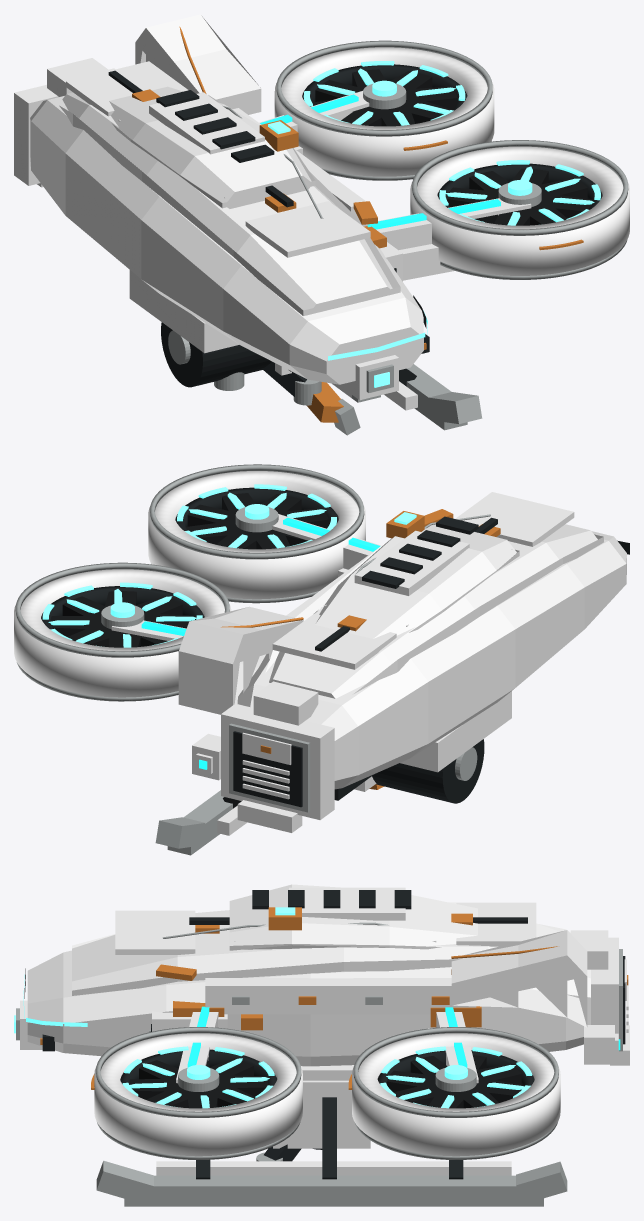
Rendered from morrowgear-family-a-salvage-v3.glb.
3 views of the same model, one above another, from view 1: azimuth 30°, elevation 25°; view 2: azimuth 150°, elevation 25°; view 3: azimuth 270°, elevation 25° (orthographic). The views are drawn at different scales.
Parts seen in each view (by area): view 1: F01_Fuselage, F02_UpperArmor, SAL_F_Duct.R, SAL_R_Duct.R, SAL_ServiceSpine, SAL_RearStabilizer.R, F02_TopPanel_0, SAL_R_UpperLip.R, SAL_F_UpperLip.R, SAL_WinchDrum, SAL_VentralBay, F02_TopPanel_3 (+23 smaller); view 2: F01_Fuselage, SAL_F_Duct.R, SAL_R_Duct.R, F02_UpperArmor, SAL_ServiceSpine, SAL_RearStabilizer.R, V01_RearHousing, SAL_F_UpperLip.R, F02_TopPanel_0, F02_TopPanel_3, SAL_R_UpperLip.R, SAL_WinchDrum (+25 smaller); view 3: F01_Fuselage, SAL_R_Duct.R, SAL_F_Duct.R, SAL_Skid.R, F02_UpperArmor, SAL_RearStabilizer.R, SAL_ServiceSpine, SAL_SideArmor.R, SAL_SkidInnerRail.R, F02_TopPanel_0, SAL_WinchHousing.R, SAL_F_UpperLip.R (+33 smaller).
Part boxes in pixels (bbox=[...]): F01_Fuselage: bbox=[30, 96, 423, 384]; F02_UpperArmor: bbox=[59, 92, 400, 315]; SAL_F_Duct.R: bbox=[410, 146, 629, 275]; SAL_R_Duct.R: bbox=[274, 47, 494, 176]; SAL_ServiceSpine: bbox=[109, 86, 315, 208]; SAL_RearStabilizer.R: bbox=[135, 14, 261, 114]; F02_TopPanel_0: bbox=[245, 201, 370, 257]; SAL_R_UpperLip.R: bbox=[276, 40, 492, 136]; SAL_F_UpperLip.R: bbox=[412, 140, 628, 235]; SAL_WinchDrum: bbox=[161, 322, 271, 387]; SAL_VentralBay: bbox=[129, 270, 239, 353]; F02_TopPanel_3: bbox=[66, 61, 188, 116]; F01_Fuselage: bbox=[237, 531, 626, 789]; SAL_F_Duct.R: bbox=[148, 471, 365, 599]; SAL_R_Duct.R: bbox=[14, 569, 231, 697]; F02_UpperArmor: bbox=[265, 524, 603, 698]; SAL_ServiceSpine: bbox=[315, 524, 519, 638]; SAL_RearStabilizer.R: bbox=[178, 606, 303, 714]; V01_RearHousing: bbox=[221, 703, 334, 819]; SAL_F_UpperLip.R: bbox=[150, 464, 364, 559]; F02_TopPanel_0: bbox=[455, 492, 574, 546]; F02_TopPanel_3: bbox=[272, 613, 396, 669]; SAL_R_UpperLip.R: bbox=[15, 562, 229, 657]; SAL_WinchDrum: bbox=[372, 739, 484, 803]; F01_Fuselage: bbox=[27, 924, 590, 1066]; SAL_R_Duct.R: bbox=[352, 1033, 560, 1156]; SAL_F_Duct.R: bbox=[94, 1033, 302, 1156]; SAL_Skid.R: bbox=[124, 1175, 543, 1206]; F02_UpperArmor: bbox=[72, 902, 558, 995]; SAL_RearStabilizer.R: bbox=[451, 930, 587, 1027]; SAL_ServiceSpine: bbox=[229, 884, 477, 950]; SAL_SideArmor.R: bbox=[205, 978, 476, 1014]; SAL_SkidInnerRail.R: bbox=[156, 1161, 511, 1175]; F02_TopPanel_0: bbox=[115, 910, 195, 954]; SAL_WinchHousing.R: bbox=[273, 1080, 370, 1148]; SAL_F_UpperLip.R: bbox=[96, 1027, 301, 1117].
Size of what is drawn, in the model's own units: 4.1 by 2.73 by 5.55.
